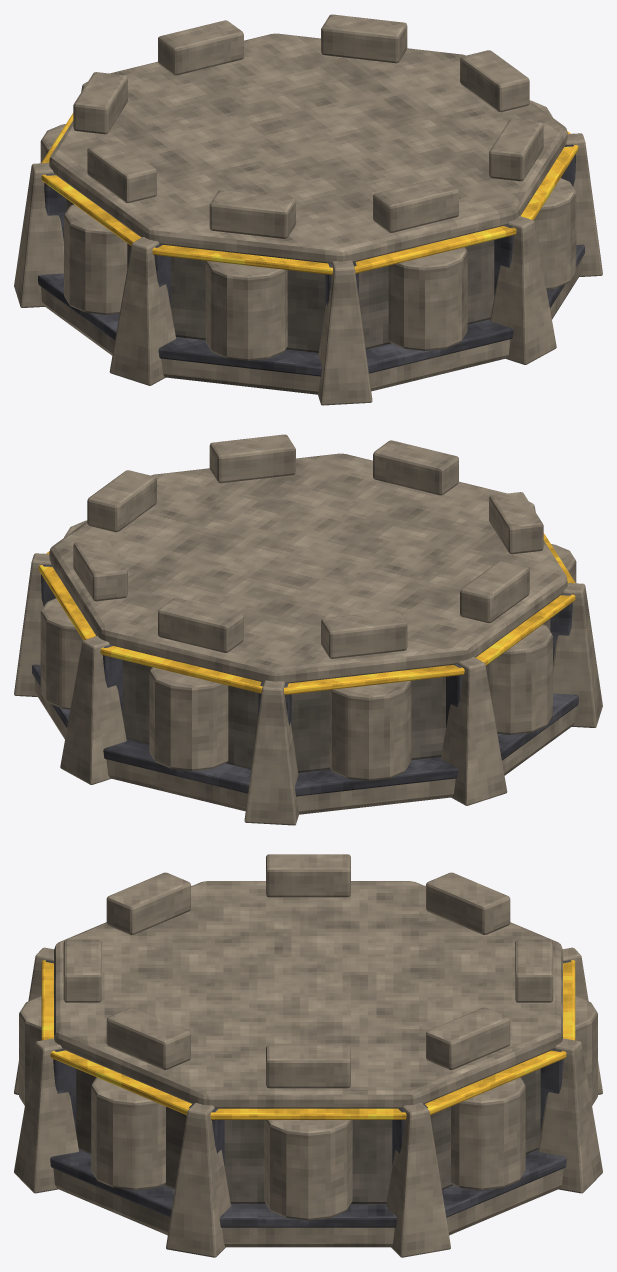
Rendered from base_scalloped.gltf.
3 views of the same model, one above another, from view 1: azimuth 30°, elevation 25°; view 2: azimuth 150°, elevation 25°; view 3: azimuth 270°, elevation 25° (orthographic). The views are drawn at different scales.
Visible parts, largest first — view 1: base_scalloped_stone_lite, Tier3_stone_lite, base_scalloped_stone, Tier4_gold, Tier2_iron, base_scalloped_iron; view 2: base_scalloped_stone_lite, Tier3_stone_lite, base_scalloped_stone, Tier4_gold, Tier2_iron, base_scalloped_iron; view 3: base_scalloped_stone_lite, Tier3_stone_lite, base_scalloped_stone, Tier4_gold, Tier2_iron, base_scalloped_iron.
Boxes of the visible parts, bbox=[...] form: base_scalloped_stone_lite: bbox=[40, 33, 582, 394]; Tier3_stone_lite: bbox=[14, 14, 602, 405]; base_scalloped_stone: bbox=[66, 199, 494, 352]; Tier4_gold: bbox=[41, 113, 578, 274]; Tier2_iron: bbox=[38, 244, 584, 376]; base_scalloped_iron: bbox=[44, 144, 575, 307]; base_scalloped_stone_lite: bbox=[34, 453, 576, 814]; Tier3_stone_lite: bbox=[14, 434, 602, 825]; base_scalloped_stone: bbox=[122, 619, 550, 772]; Tier4_gold: bbox=[38, 533, 575, 694]; Tier2_iron: bbox=[32, 664, 578, 796]; base_scalloped_iron: bbox=[41, 564, 572, 727]; base_scalloped_stone_lite: bbox=[19, 881, 597, 1247]; Tier3_stone_lite: bbox=[14, 854, 602, 1257]; base_scalloped_stone: bbox=[76, 1069, 540, 1203]; Tier4_gold: bbox=[41, 960, 575, 1119]; Tier2_iron: bbox=[50, 1149, 566, 1227]; base_scalloped_iron: bbox=[45, 960, 571, 1165].
Size of the model in its own units: 1.08 by 0.36 by 1.08.
Materials: 5 (5 with a texture image).
